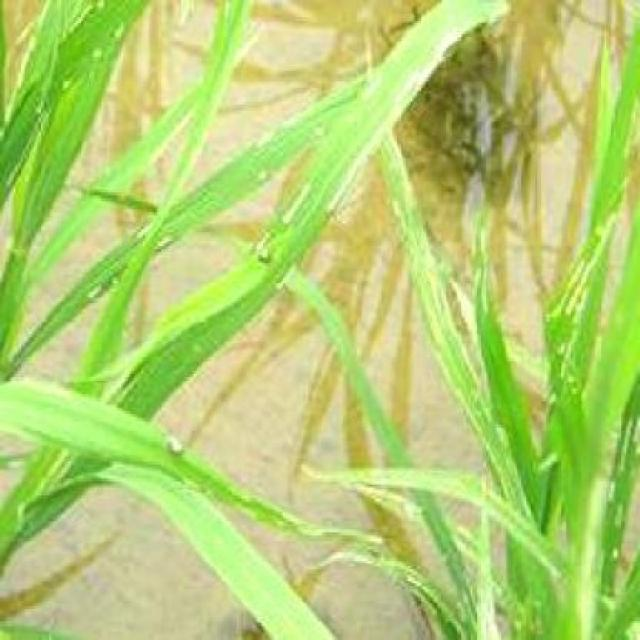rice-bug: (253, 232, 278, 266), (164, 428, 190, 458)
